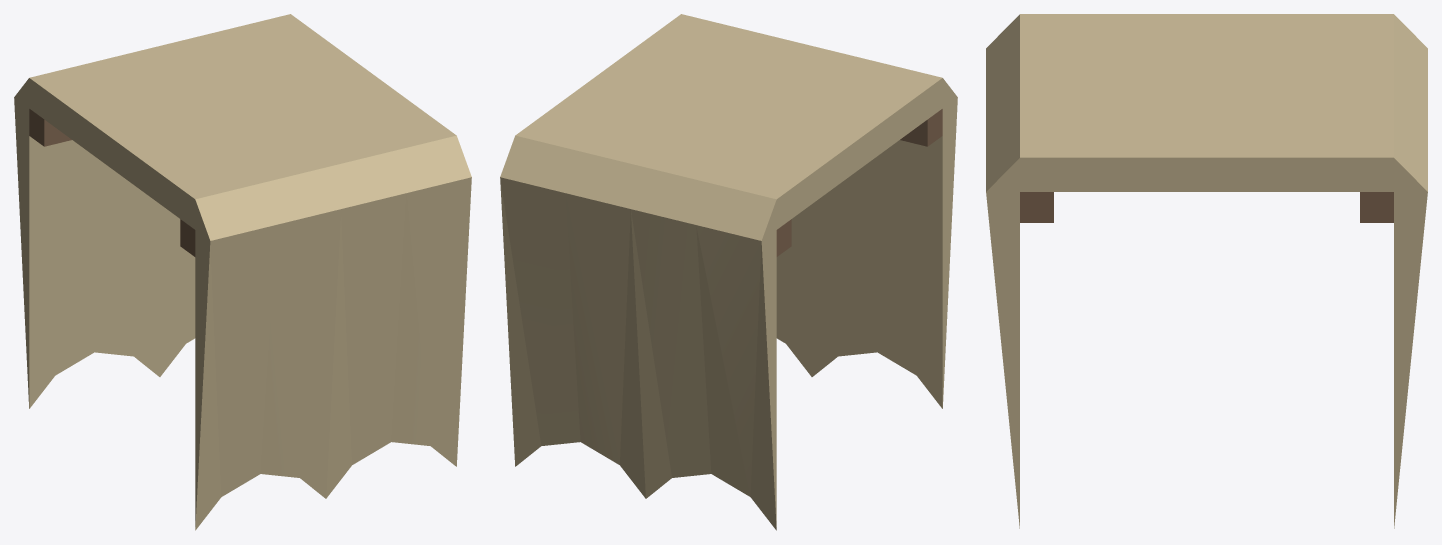
File: Canopy_Sides_Opposite.obj
3 renders of one model, left to right at view 1: azimuth 30°, elevation 25°; view 2: azimuth 150°, elevation 25°; view 3: azimuth 270°, elevation 25°, orthographic. The views are drawn at different scales.
Visible parts, largest first — view 1: object2, object3; view 2: object2, object1; view 3: object2, object1, object3.
Boxes of the visible parts, bbox=[...] form: object2: bbox=[14, 14, 471, 530]; object3: bbox=[29, 109, 71, 146]; object2: bbox=[500, 14, 957, 530]; object1: bbox=[900, 109, 942, 146]; object2: bbox=[986, 14, 1427, 528]; object1: bbox=[1020, 192, 1053, 222]; object3: bbox=[1360, 192, 1393, 222].
Size of the model in its own units: 1 by 1.21 by 1.3.
